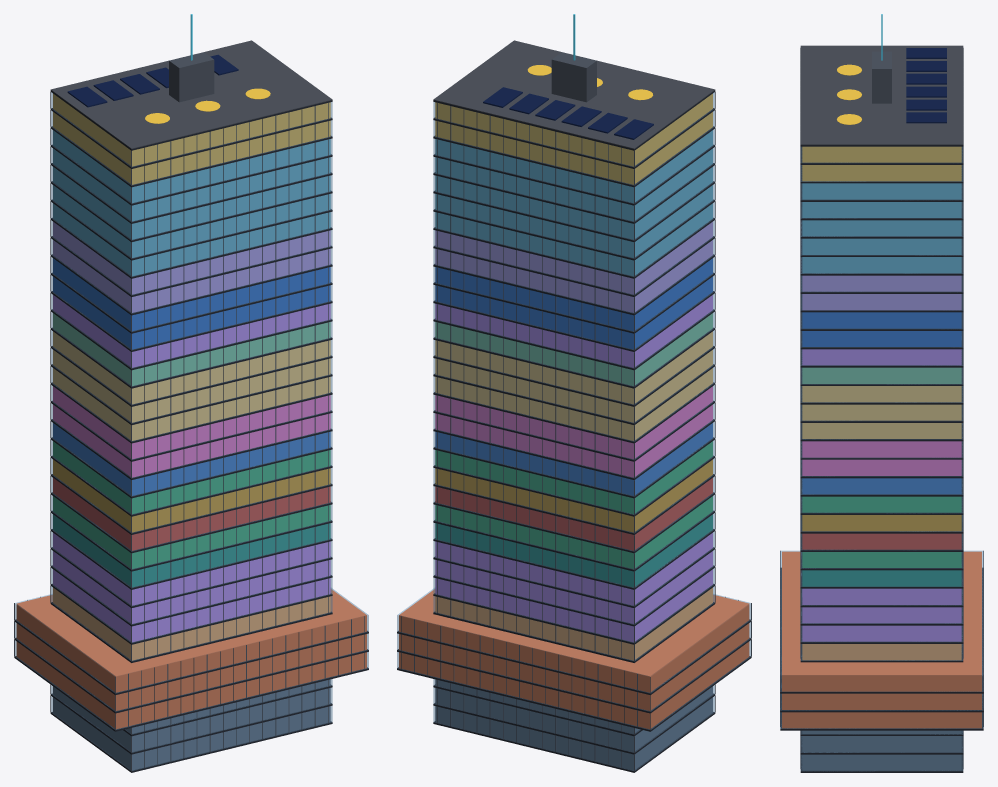
File: tower.glb
The picture shows the model from 3 angles, left to right: view 1: azimuth 30°, elevation 25°; view 2: azimuth 150°, elevation 25°; view 3: azimuth 270°, elevation 25°; orthographic projection.
Visible parts, largest first — view 1: F_R_pad, F_3_glass, F_3_kind_e8692f, F_G_kind_e8692f, F_2_kind_e8692f, F_2_glass, F_G_glass, F_8_glass, F_9_glass, F_B3_glass, F_6_glass, F_11_glass (+95 smaller); view 2: F_R_pad, F_3_glass, F_3_kind_e8692f, F_G_kind_e8692f, F_2_kind_e8692f, F_2_glass, F_G_glass, F_6_glass, F_15_glass, F_12_glass, F_10_glass, F_19_glass (+94 smaller); view 3: F_R_pad, F_3_glass, F_3_kind_e8692f, F_G_glass, F_2_glass, F_G_kind_e8692f, F_2_kind_e8692f, F_R_solar, F_B2_glass, F_4_glass, F_6_glass, F_7_glass (+93 smaller).
Part boxes in pixels (x1,y1,x2,y2): F_R_pad: (50, 40, 332, 149); F_3_glass: (15, 588, 368, 692); F_3_kind_e8692f: (16, 589, 366, 692); F_G_kind_e8692f: (16, 641, 366, 729); F_2_kind_e8692f: (16, 623, 366, 710); F_2_glass: (15, 622, 368, 711); F_G_glass: (15, 640, 368, 729); F_8_glass: (51, 513, 332, 587); F_9_glass: (51, 495, 332, 569); F_B3_glass: (51, 696, 332, 770); F_6_glass: (51, 549, 332, 624); F_11_glass: (51, 458, 332, 532); F_R_pad: (433, 40, 715, 149); F_3_glass: (397, 588, 750, 692); F_3_kind_e8692f: (399, 589, 749, 692); F_G_kind_e8692f: (399, 641, 749, 729); F_2_kind_e8692f: (399, 623, 749, 710); F_2_glass: (397, 622, 750, 711); F_G_glass: (397, 640, 750, 729); F_6_glass: (433, 549, 714, 624); F_15_glass: (433, 385, 714, 459); F_12_glass: (433, 440, 714, 514); F_10_glass: (433, 476, 714, 551); F_19_glass: (433, 312, 714, 386); F_R_pad: (800, 45, 963, 144); F_3_glass: (780, 550, 983, 691); F_3_kind_e8692f: (782, 551, 981, 691); F_G_glass: (780, 712, 983, 728); F_2_glass: (780, 694, 983, 710); F_G_kind_e8692f: (782, 712, 981, 728); F_2_kind_e8692f: (782, 693, 981, 709); F_R_solar: (906, 48, 946, 123); F_B2_glass: (801, 736, 962, 752); F_4_glass: (801, 644, 962, 660); F_6_glass: (801, 607, 962, 623); F_7_glass: (801, 589, 962, 605).
Size of what is drawn, in the model's own units: 58.06 by 154 by 40.1.
